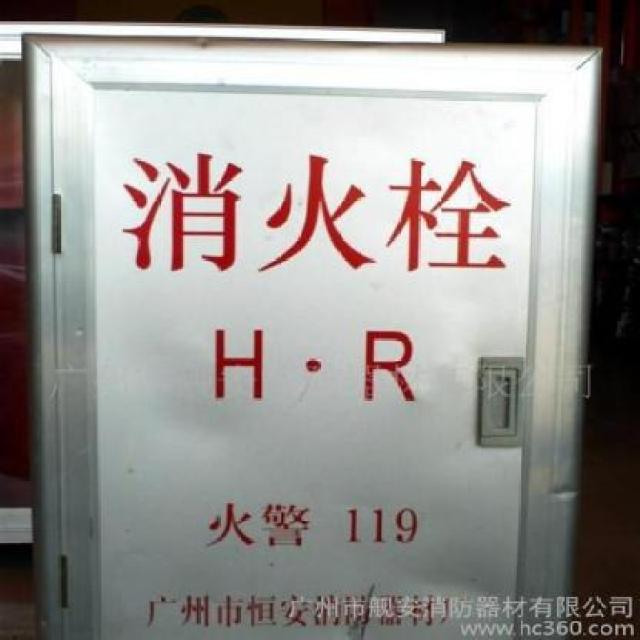firehydrant: (19, 26, 603, 640)
